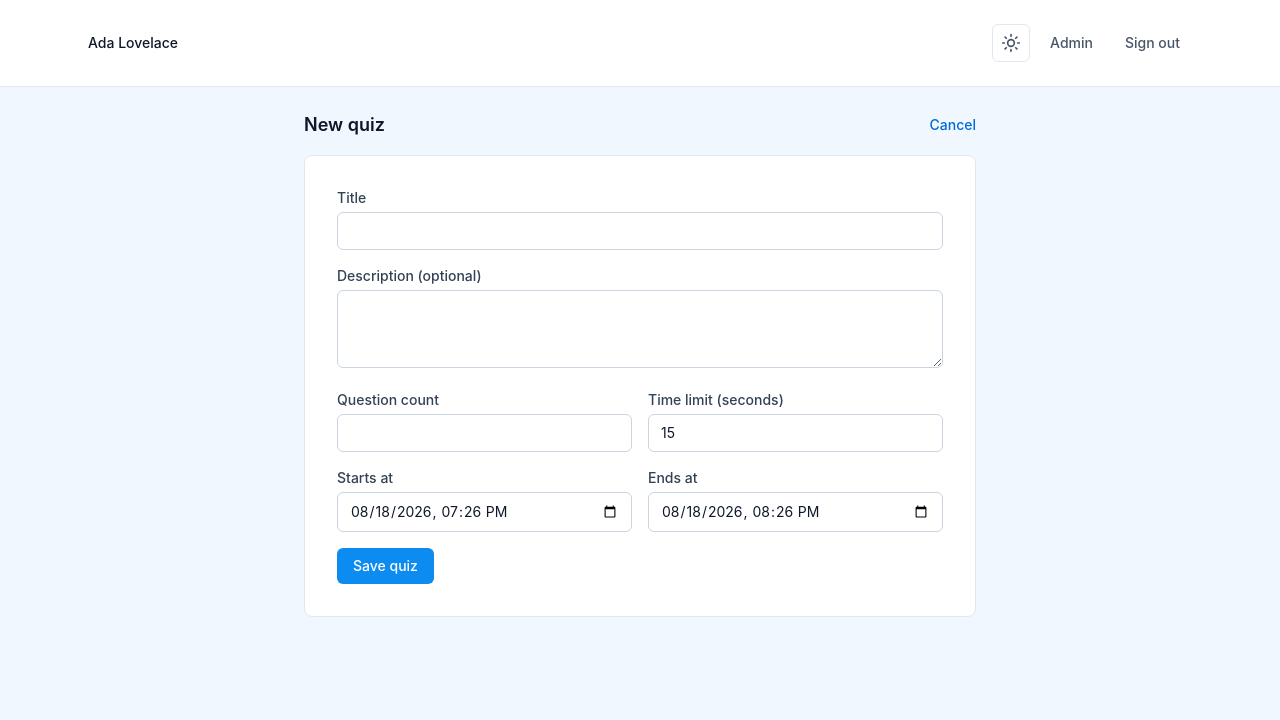
Test: AdminQuizForm › should_block_submit_when_question_count_is_not_positive
This screenshot has width=1280, height=720.
Type "Zero quiz" into the field labelled "Title" at (640,231), box x1=337 y1=212 x2=943 y2=250
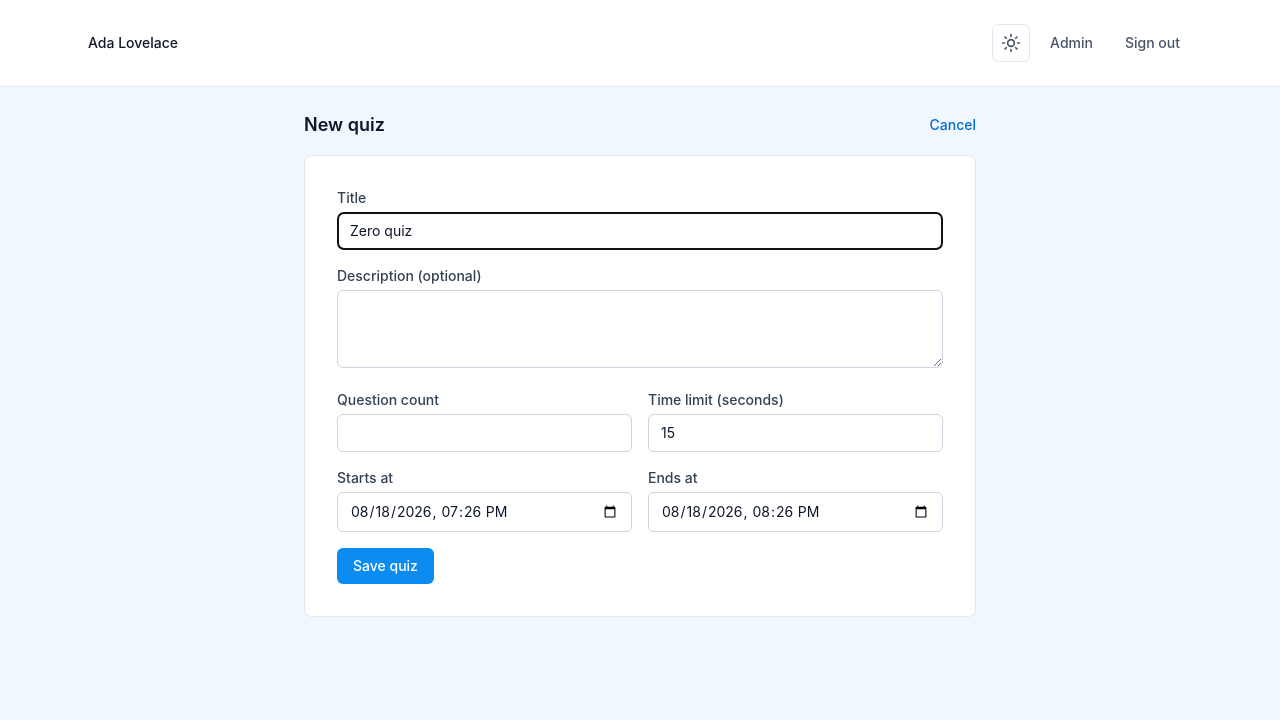
Type "0" into the number field labelled "Question count" at (484,433), box x1=337 y1=414 x2=632 y2=452
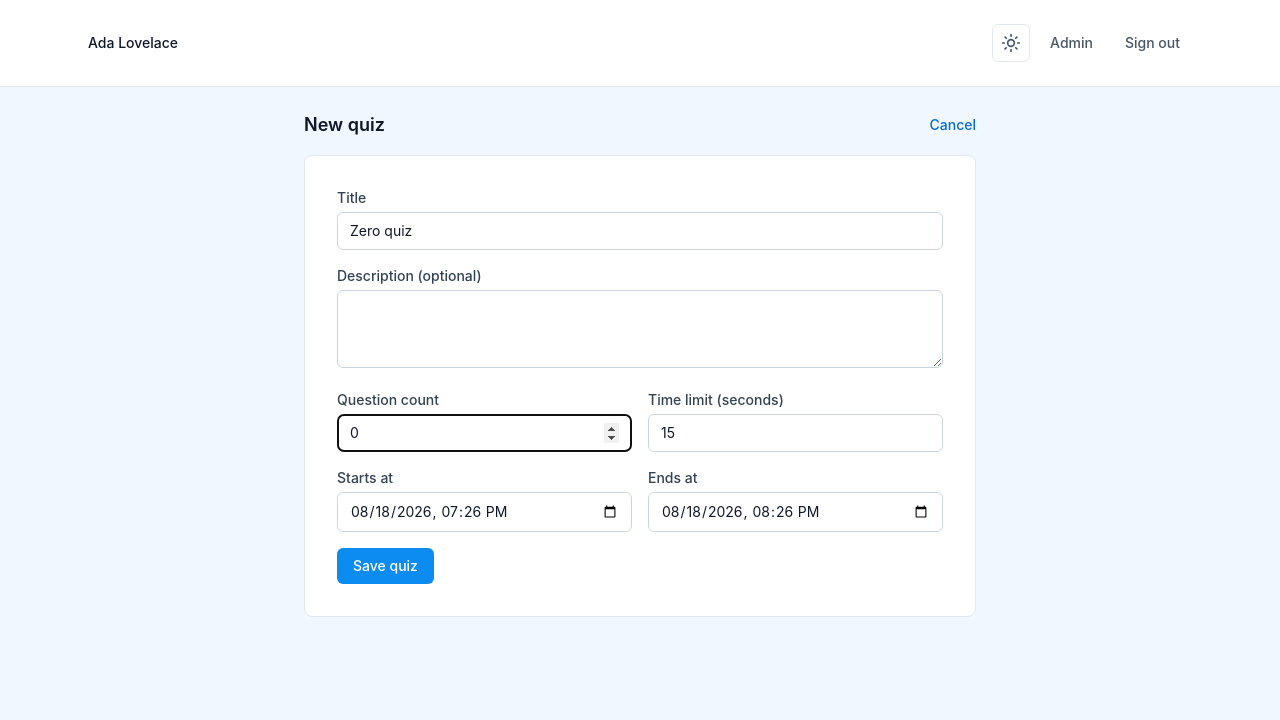
Click the button "Save quiz" at (386,566), box x1=337 y1=548 x2=434 y2=584
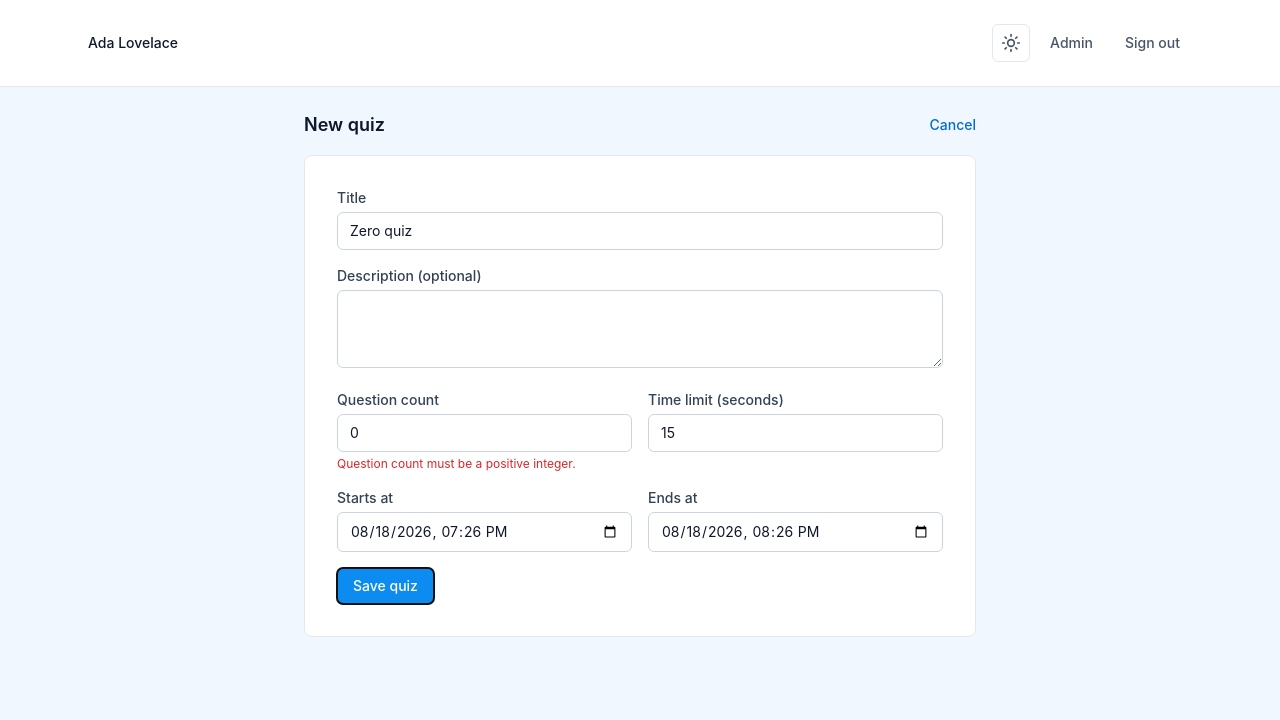
Expected: the text "Question count must be a positive integer." is shown, x1=337 y1=456 x2=576 y2=471
